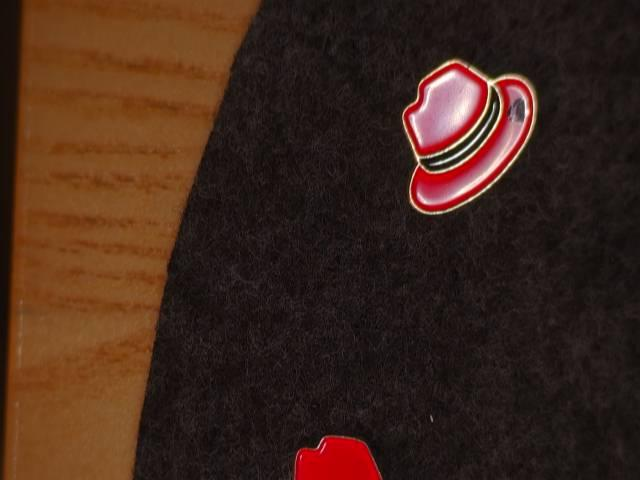Red-Hat: (383, 50, 562, 227), (278, 422, 412, 480)
Scratch: (500, 82, 544, 130)
